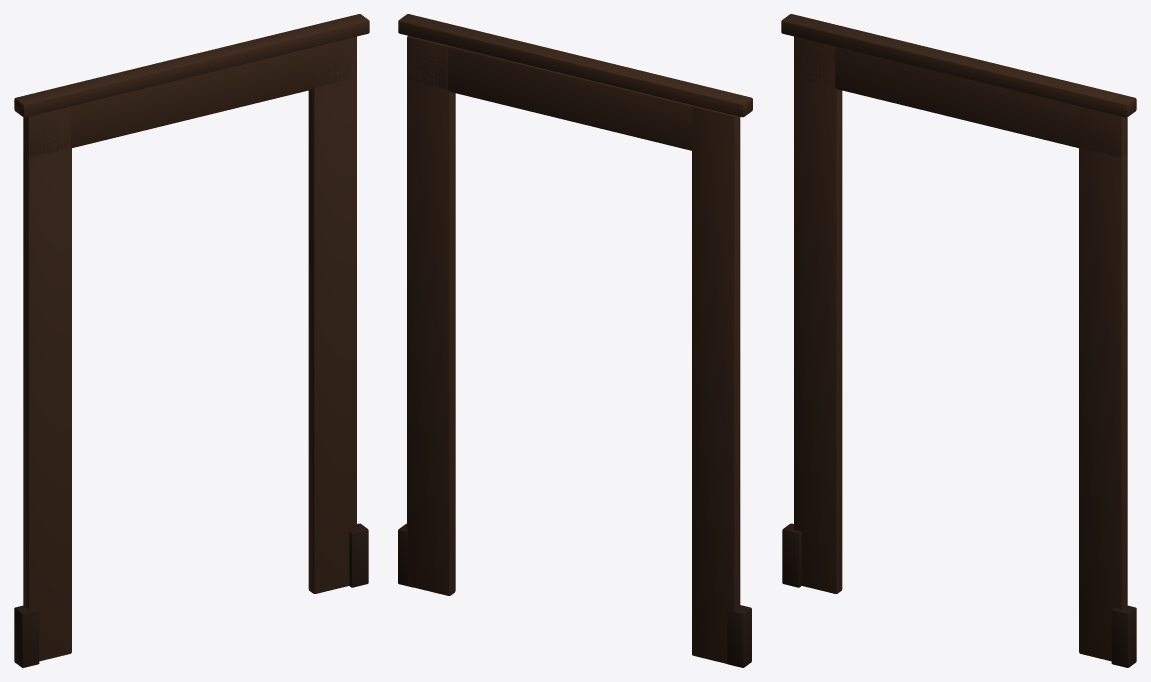
Rendered from doorframe_walnut.glb.
3 renders of one model, left to right at view 1: azimuth 30°, elevation 25°; view 2: azimuth 150°, elevation 25°; view 3: azimuth 330°, elevation 25°, orthographic.
Visible parts, largest first — view 1: doorframe_walnut; view 2: doorframe_walnut; view 3: doorframe_walnut.
Part boxes in pixels (x1,y1,x2,y2): doorframe_walnut: (14,14,369,667); doorframe_walnut: (398,14,752,667); doorframe_walnut: (781,14,1136,667).
Size of the model in its own units: 1.58 by 2.46 by 0.08.
